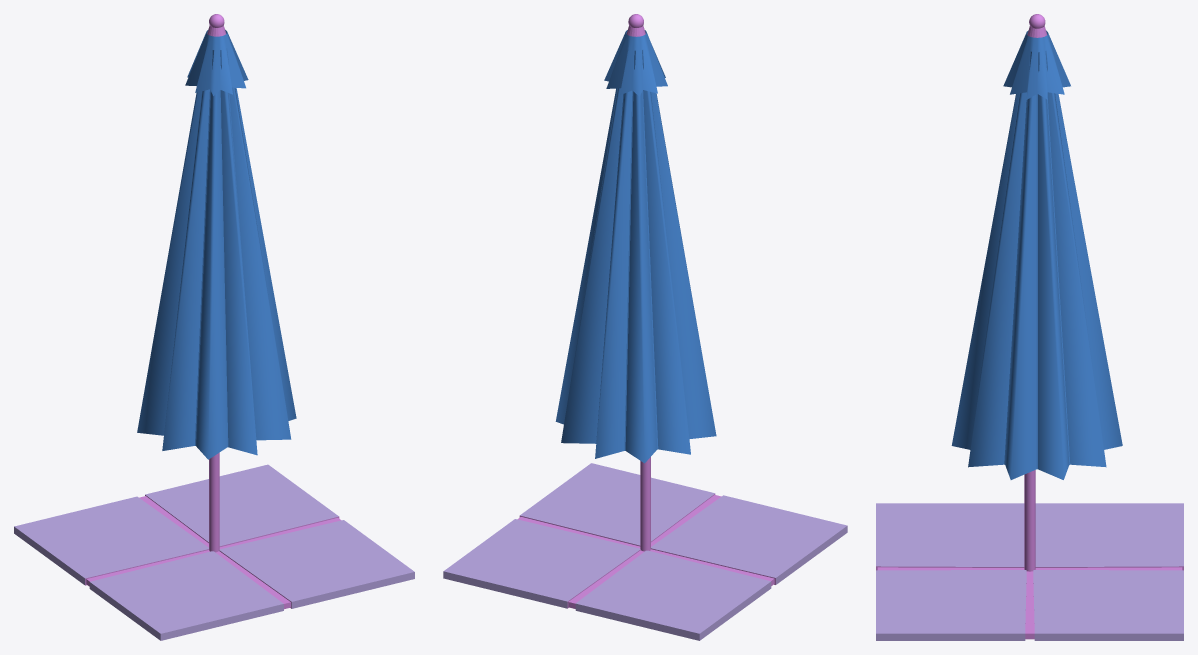
The model's file is schirm.fbx.
The picture shows the model from 3 angles, left to right: view 1: azimuth 30°, elevation 25°; view 2: azimuth 150°, elevation 25°; view 3: azimuth 270°, elevation 25°; orthographic projection. The views are drawn at different scales.
Visible parts, largest first — view 1: schirm; view 2: schirm; view 3: schirm.
Boxes of the visible parts, left/top/right/bottom form: schirm: left=14, top=14, right=414, bottom=640; schirm: left=443, top=14, right=847, bottom=640; schirm: left=876, top=14, right=1183, bottom=640.
Bounding box in the file's own units: 150 × 304 × 150.
